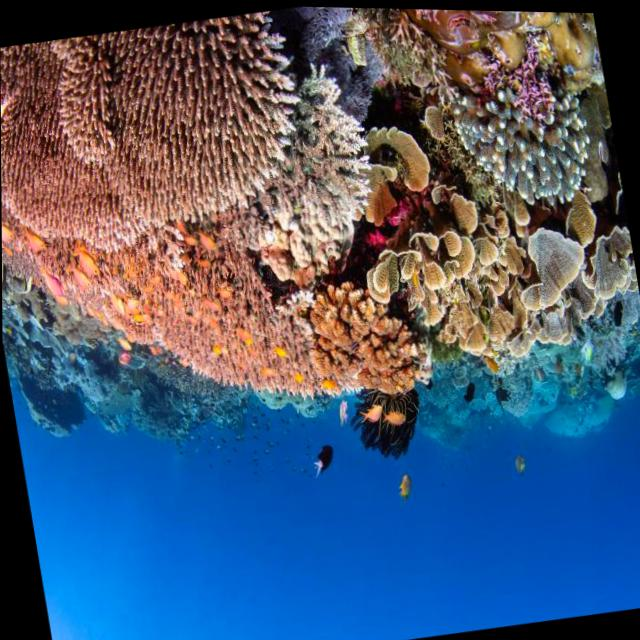Healthy Coral: (0, 1, 320, 274), (349, 158, 640, 383), (246, 34, 378, 275), (349, 101, 485, 297), (449, 56, 606, 220), (301, 274, 425, 407)
